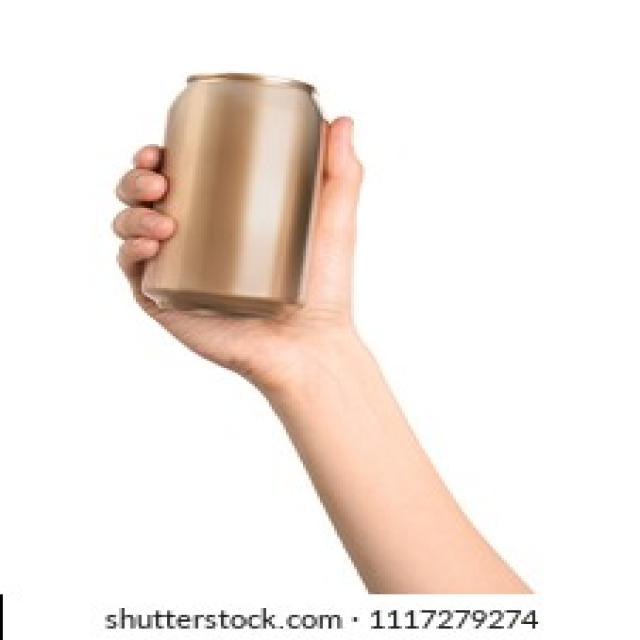soda_can: (109, 32, 360, 337)
